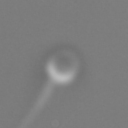normal: (12, 80, 54, 128)
